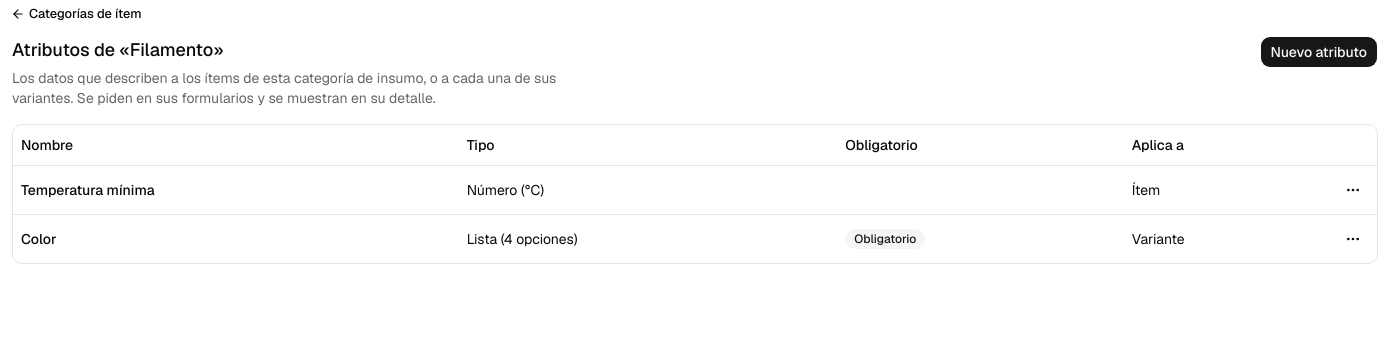
CategoryAttributesSection › la tabla muestra cada definición, con su menú y sin botones sueltos
The width and height of the screenshot is (1390, 353).
Expected: the text "Temperatura mínima" shows "Número (°C)", x1=467 y1=180 x2=544 y2=198
Expected: the text "Temperatura mínima" shows "Ítem", x1=1132 y1=180 x2=1160 y2=198
What coordinates should you click on to do the following:
click the button named "Acciones de Color"
I would click on:
 (1353, 238)
Its box is x1=1337 y1=222 x2=1369 y2=254.
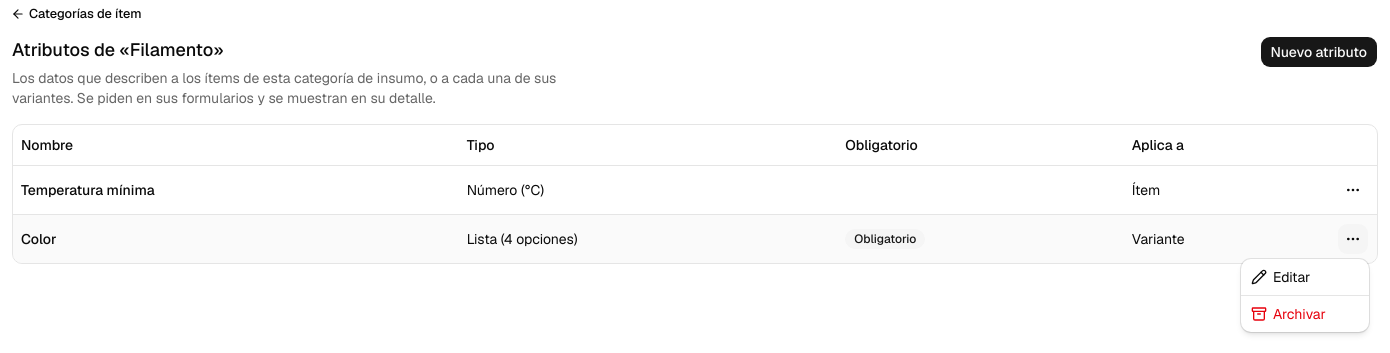
Expected: the menu items read "Editar", "Archivar", in this order, x1=1251 y1=268 x2=1310 y2=286; x1=1251 y1=305 x2=1326 y2=323
